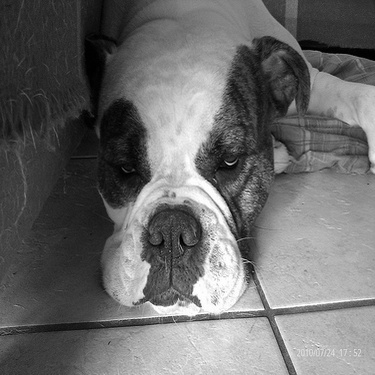dog: (89, 1, 368, 318)
